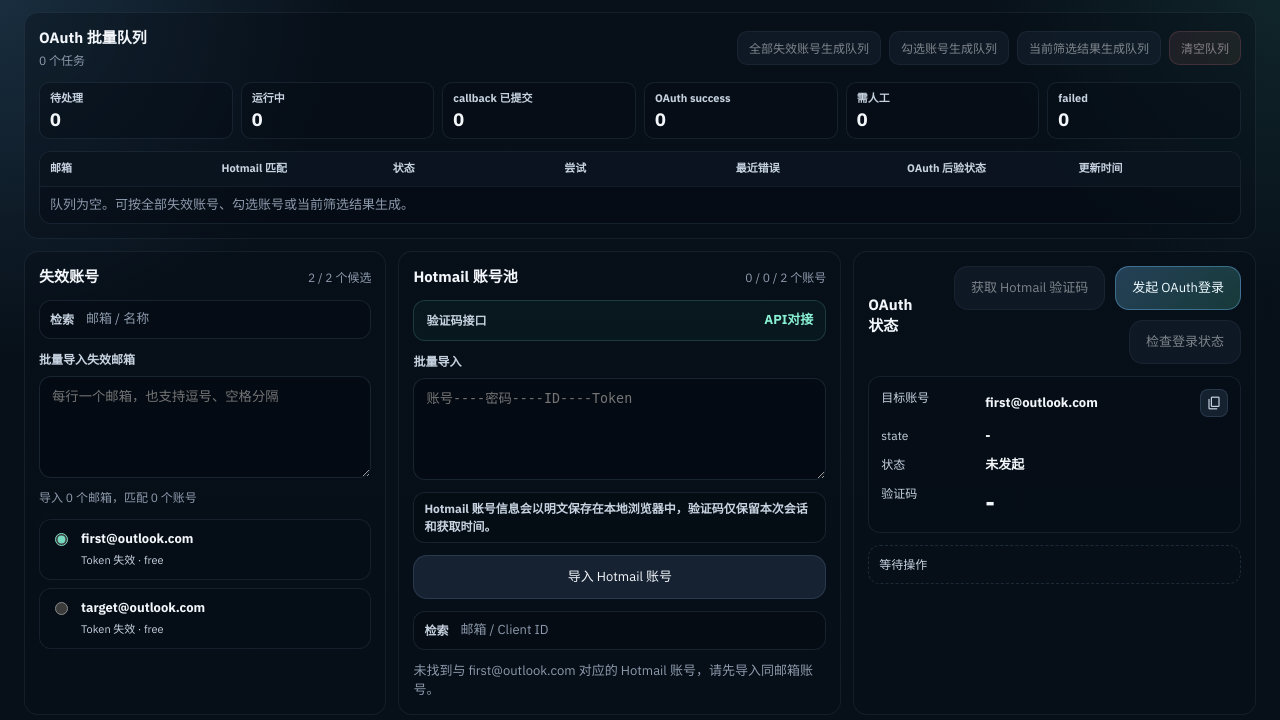
Test case: CodexOAuthPanel › filters OAuth account and Hotmail lists from their search boxes
(page scrolled)
Type "target" into the field named "检索失效账号" at (222, 320), box [84, 309, 360, 330]
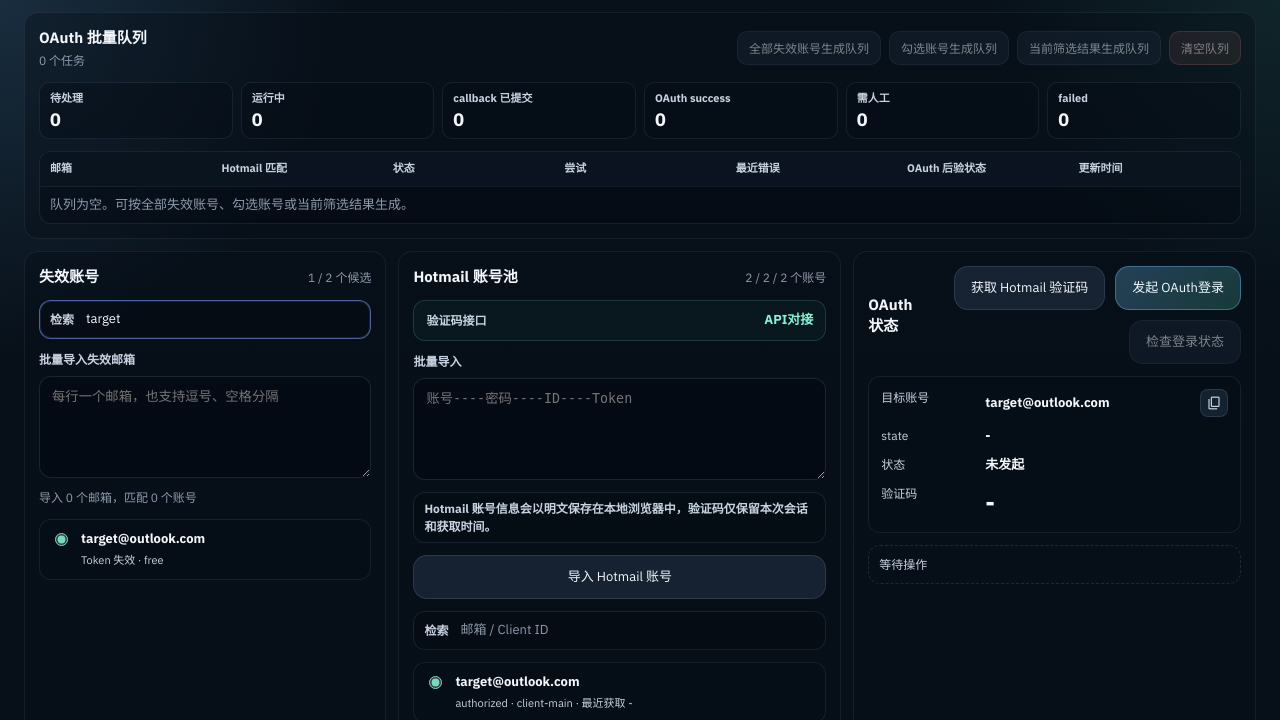
Expected: the text "target@outlook.com" below "个邮箱，匹配" is shown, [81, 530, 205, 547]
Expected: the text "first@outlook.com" is gone
Expected: the text "authorized · client-main · 最近获取 -" is shown, [455, 696, 633, 710]
Type "backup" into the field named "检索 Hotmail 账号" at (637, 630), box [458, 620, 815, 641]
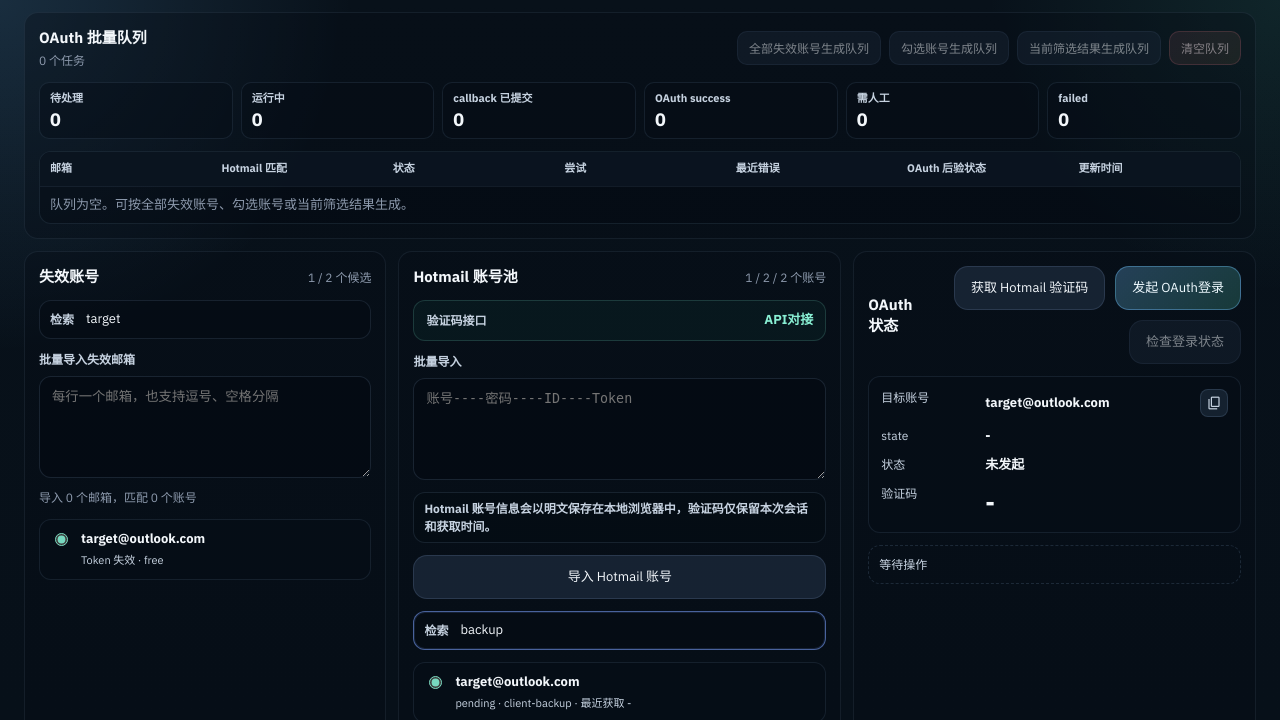
Expected: the text "client-main" is gone
Expected: the text "pending · client-backup · 最近获取 -" is shown, [455, 696, 632, 710]
